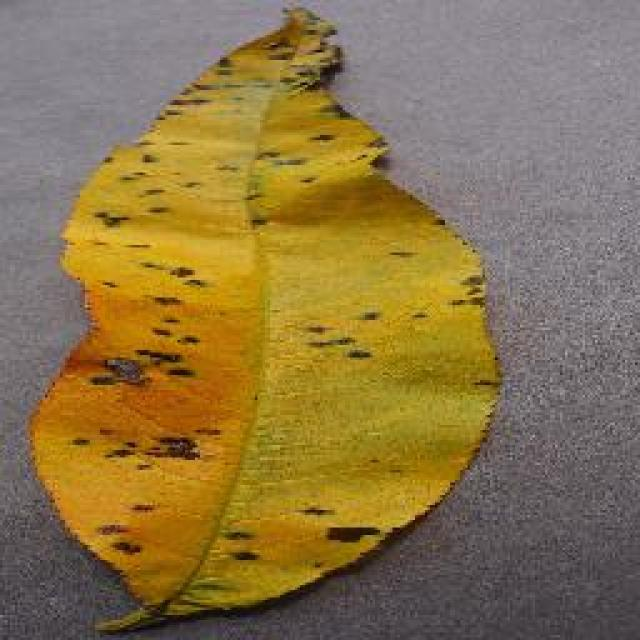Peach_Bacterial_Spot: (148, 156, 360, 536)
